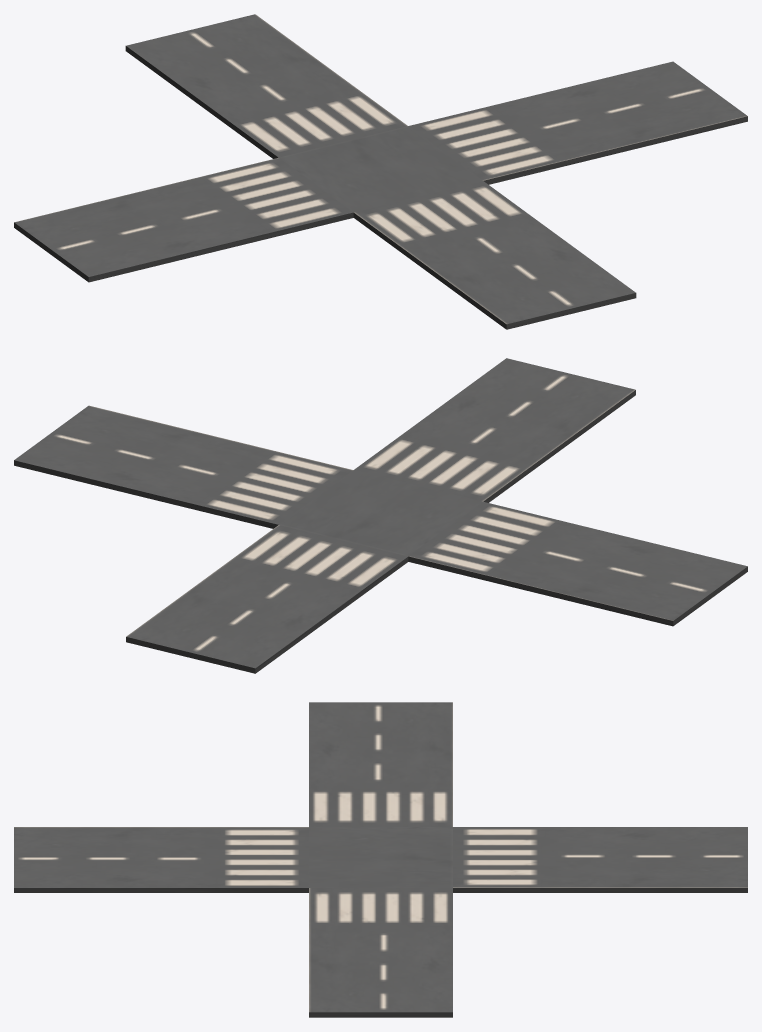
File: çift şeritli yol ( 4 kavşaklı hali ).fbx
3 views of the same model, one above another, from view 1: azimuth 30°, elevation 25°; view 2: azimuth 150°, elevation 25°; view 3: azimuth 270°, elevation 25° (orthographic). The views are drawn at different scales.
Visible parts, largest first — view 1: Plane.001; view 2: Plane.001; view 3: Plane.001.
Part boxes in pixels (x1,y1,x2,y2): Plane.001: (14,14,747,329); Plane.001: (14,358,747,673); Plane.001: (14,702,747,1017).
Size of the model in its own units: 2601 by 20.43 by 2602.
Materials: 1 (1 with a texture image).
